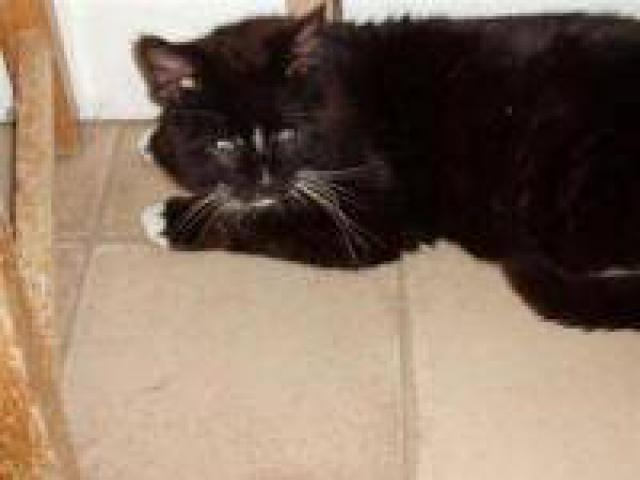cat: (121, 1, 637, 340)
